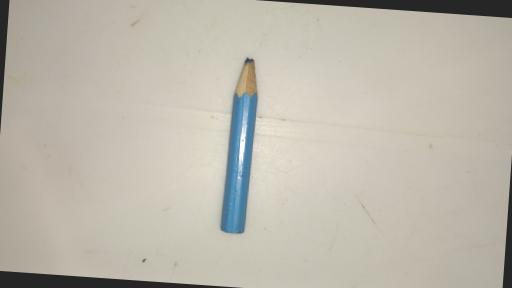Pencil: (222, 54, 260, 237)
